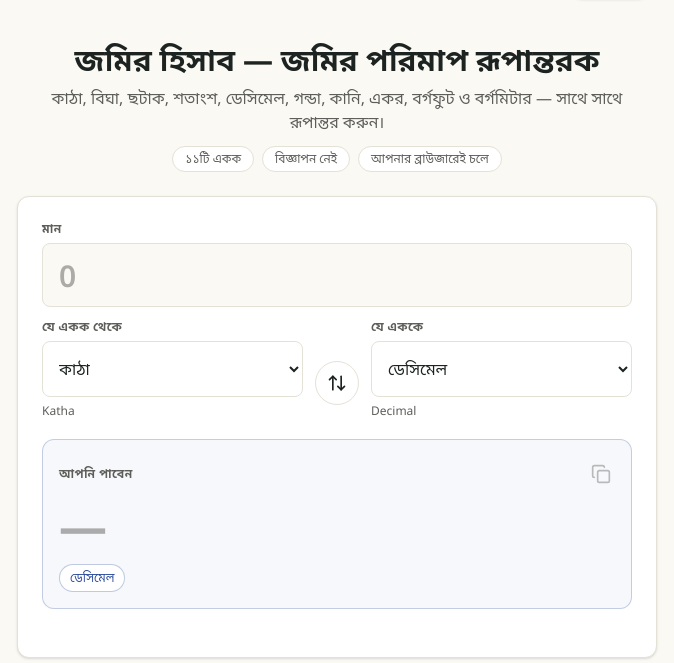
Scenario: App integration › all-units grid shows every unit converting the live input, tap retargets
Step 1. Type "1" into the field labelled "মান" → (337, 275), box x1=42 y1=243 x2=632 y2=307
(page scrolled)
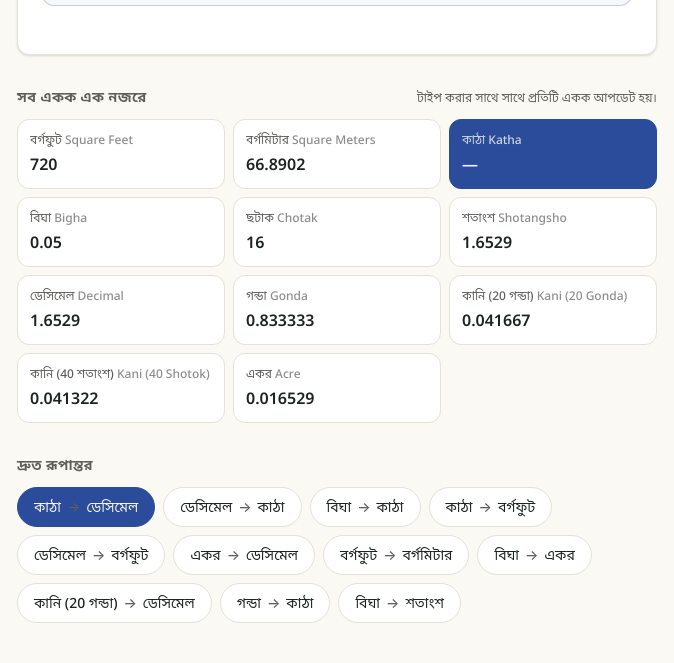
Step 2. Click the button "একর Acre 0.016529" → (337, 388), box x1=233 y1=353 x2=441 y2=423
(page scrolled)
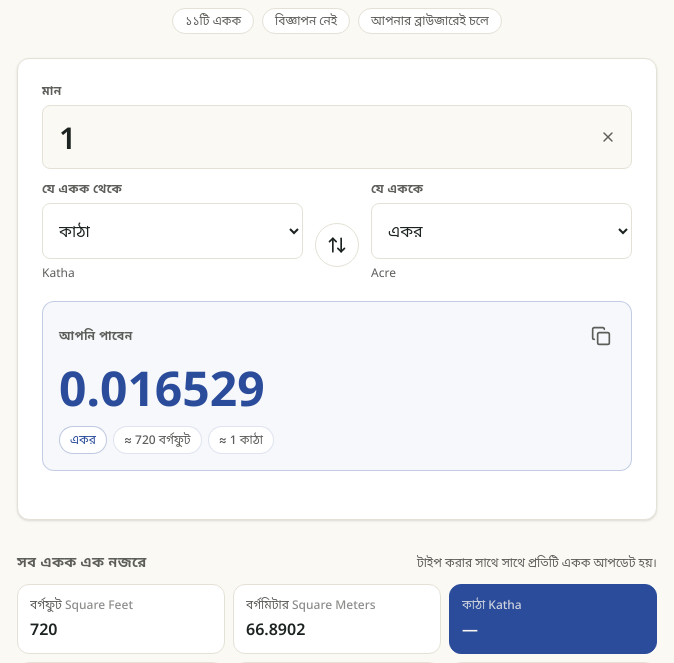
Expected: the dropdown labelled "যে এককে" shows "একর", x1=371 y1=203 x2=632 y2=259
Expected: the text "0.016529" is shown, x1=59 y1=358 x2=265 y2=418
